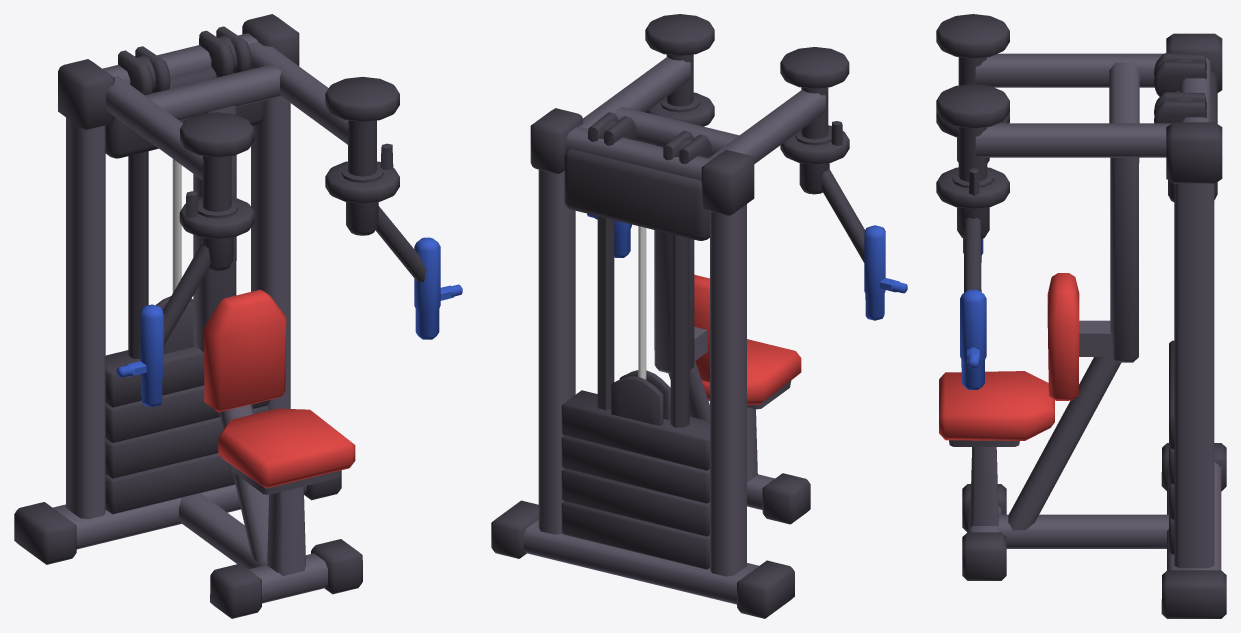
Rendered from Machine_Fly_v01.fbx.
3 renders of one model, left to right at view 1: azimuth 30°, elevation 25°; view 2: azimuth 150°, elevation 25°; view 3: azimuth 270°, elevation 25°, orthographic. The views are drawn at different scales.
Parts seen in each view (by area): view 1: Machine_Fly_v01; view 2: Machine_Fly_v01; view 3: Machine_Fly_v01.
Boxes of the visible parts, bbox=[...] form: Machine_Fly_v01: bbox=[14, 14, 462, 618]; Machine_Fly_v01: bbox=[491, 14, 907, 618]; Machine_Fly_v01: bbox=[936, 14, 1226, 618].
Size of the model in its own units: 1.37 by 1.89 by 1.02.
Materials: 1 (1 with a texture image).
